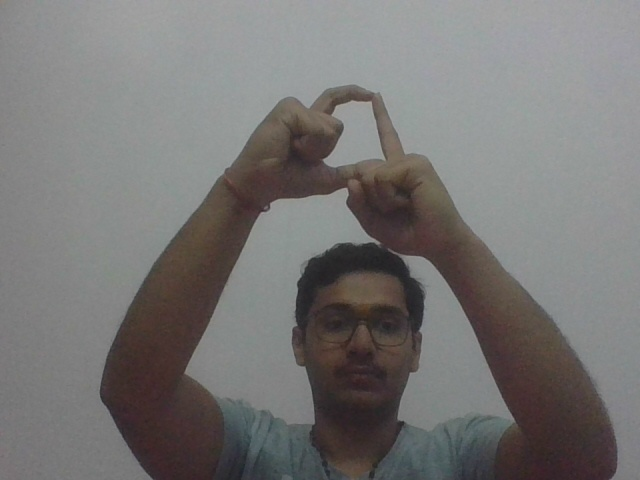D: (246, 82, 452, 249)
